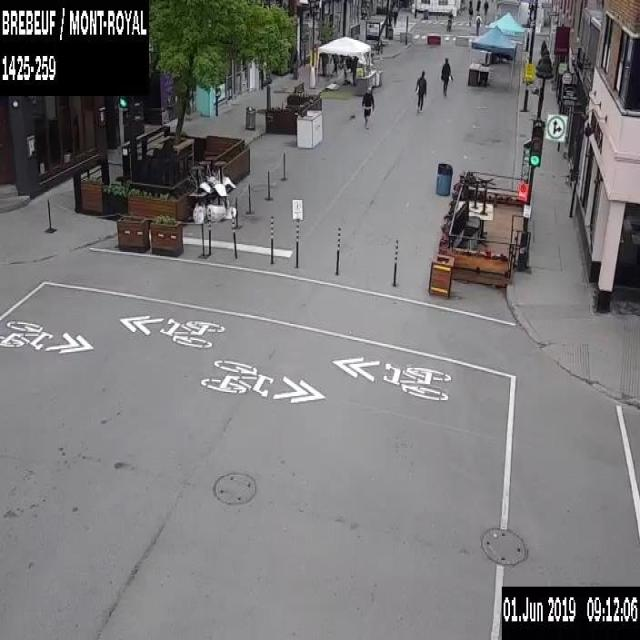pedestrian: (440, 56, 454, 96), (361, 85, 374, 128), (416, 68, 426, 111), (445, 8, 453, 32), (466, 0, 473, 21), (474, 13, 480, 36), (483, 0, 488, 23), (475, 0, 480, 21)
